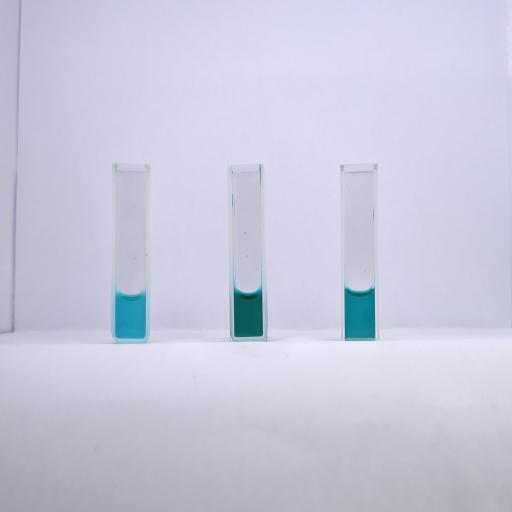cuvette: (225, 162, 270, 344), (109, 160, 153, 346), (338, 161, 381, 342)
liquid: (345, 288, 375, 338), (115, 291, 146, 338), (234, 289, 262, 337)
